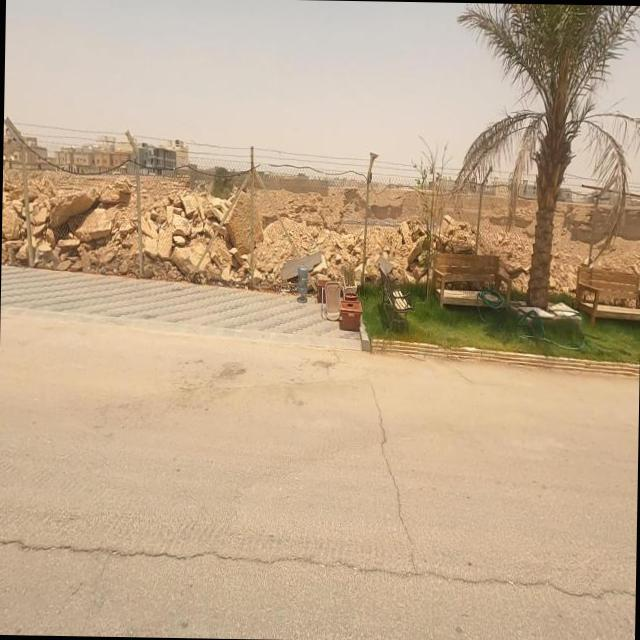debris: (298, 244, 361, 354), (276, 230, 321, 319)
